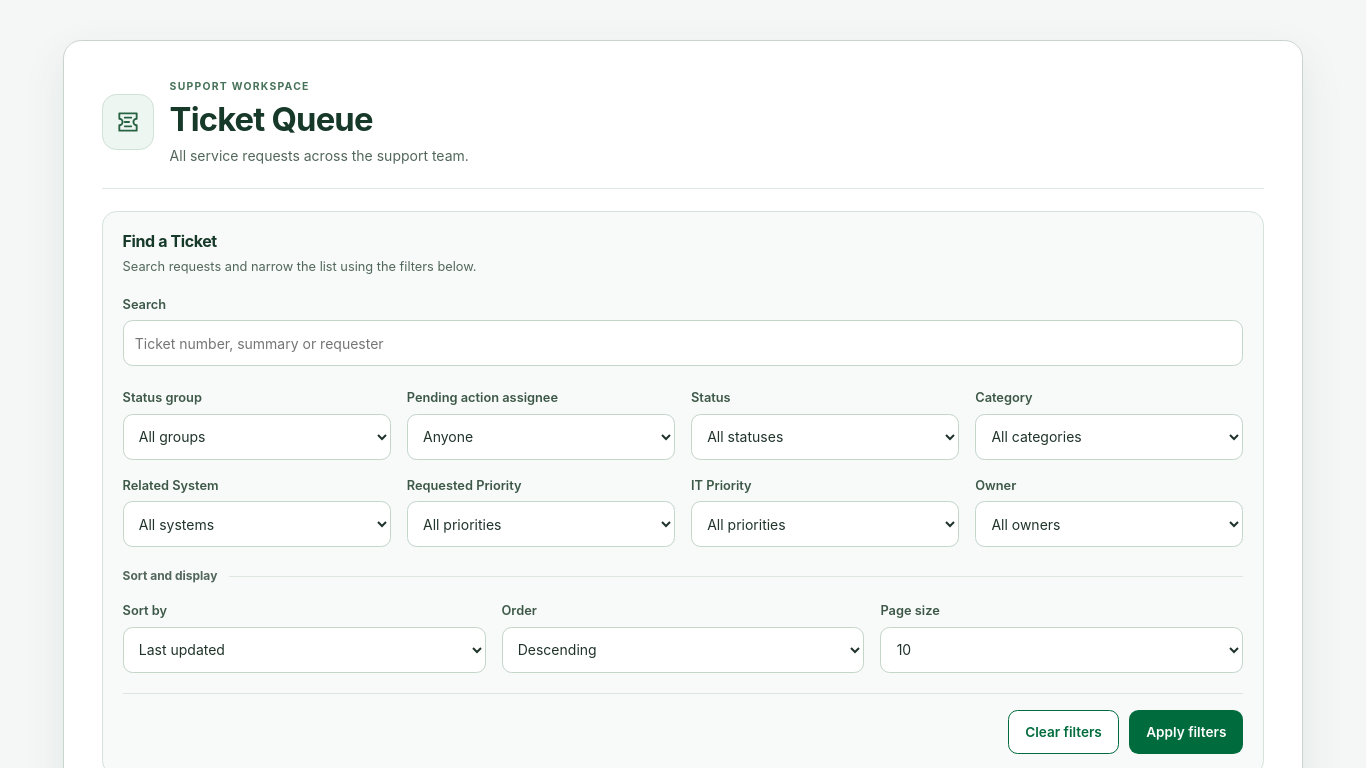
distinguishes empty and filtered no-results, and clears filters
The image size is (1366, 768).
Type "no results" into the field labelled "Search" at (683, 343), box x1=123 y1=320 x2=1243 y2=366
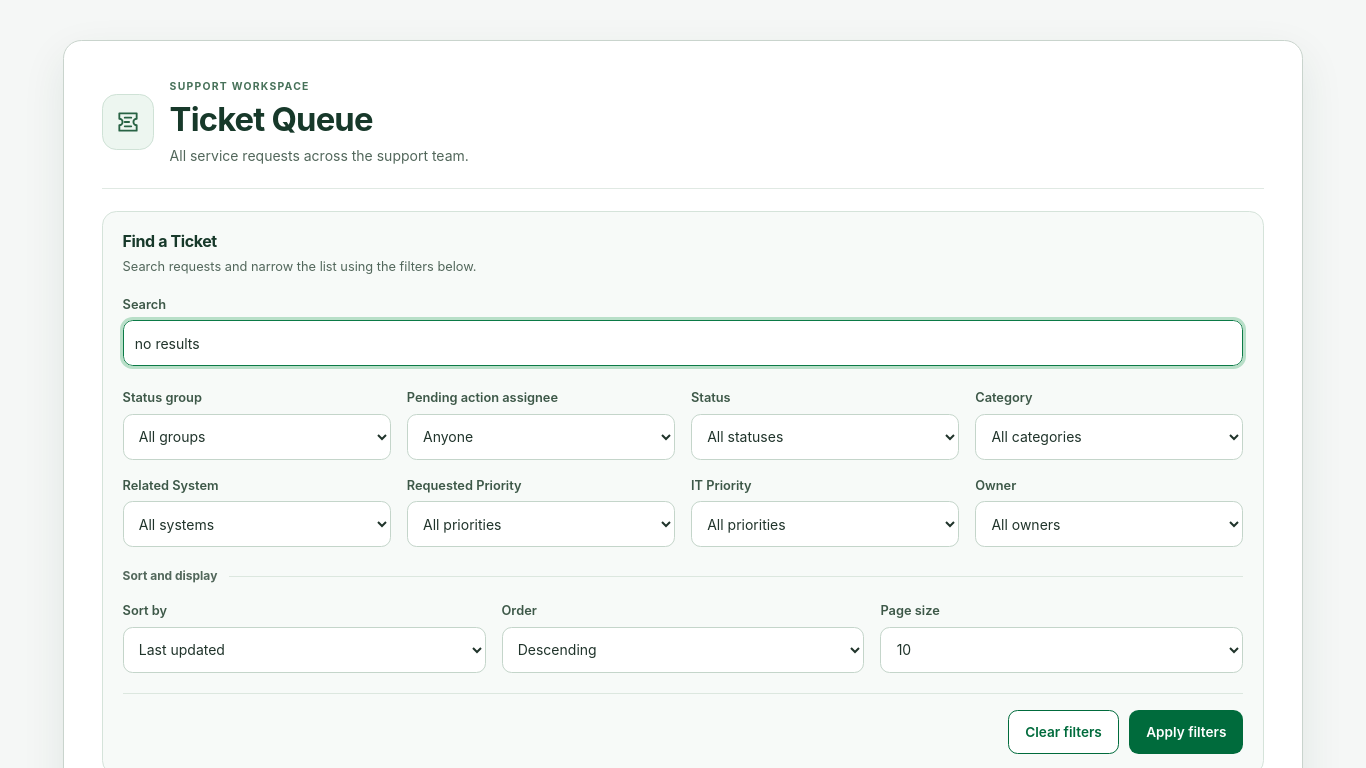
Click the button "Apply filters" at (1186, 732), box x1=1129 y1=710 x2=1243 y2=754
(page scrolled)
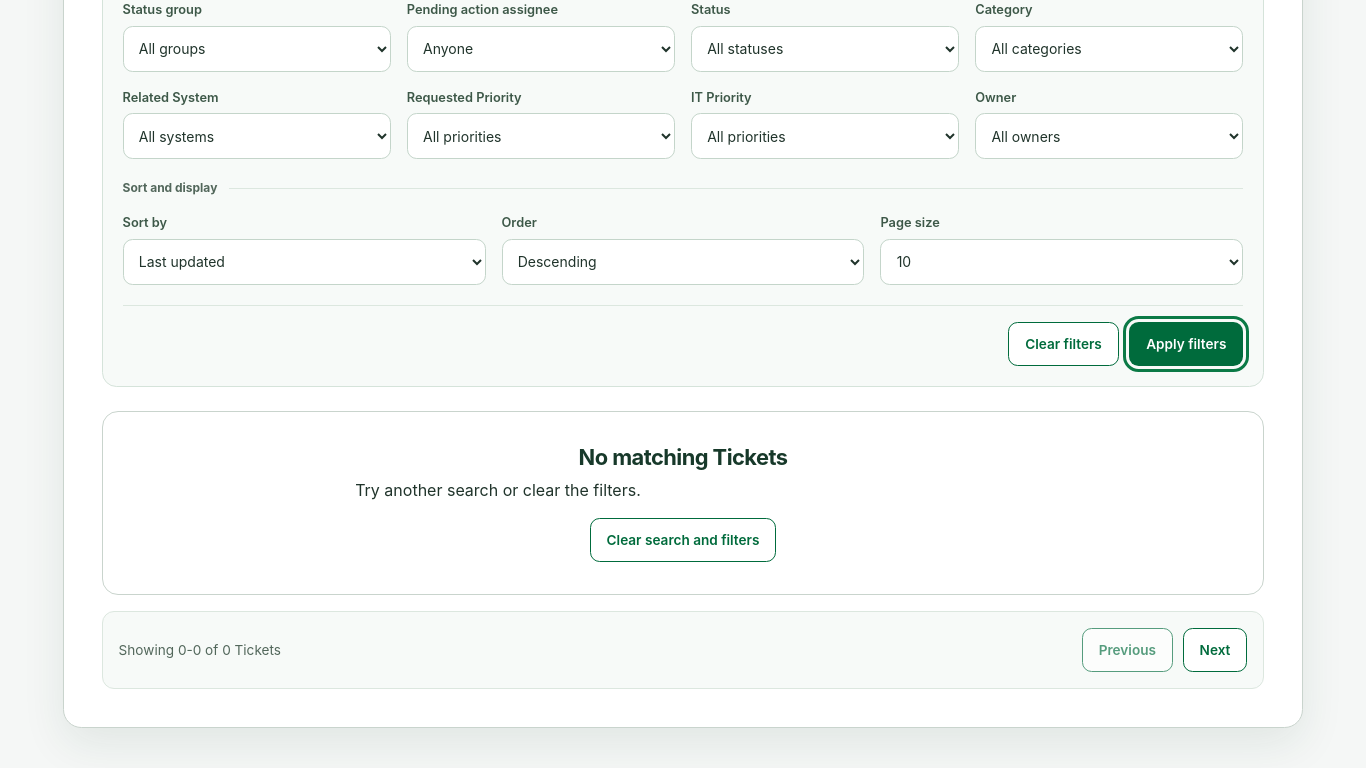
Expected: the heading "No matching Tickets" is shown, x1=579 y1=444 x2=787 y2=470
Click the button "Clear search and filters" at (683, 540), box x1=590 y1=518 x2=776 y2=562
(page scrolled)
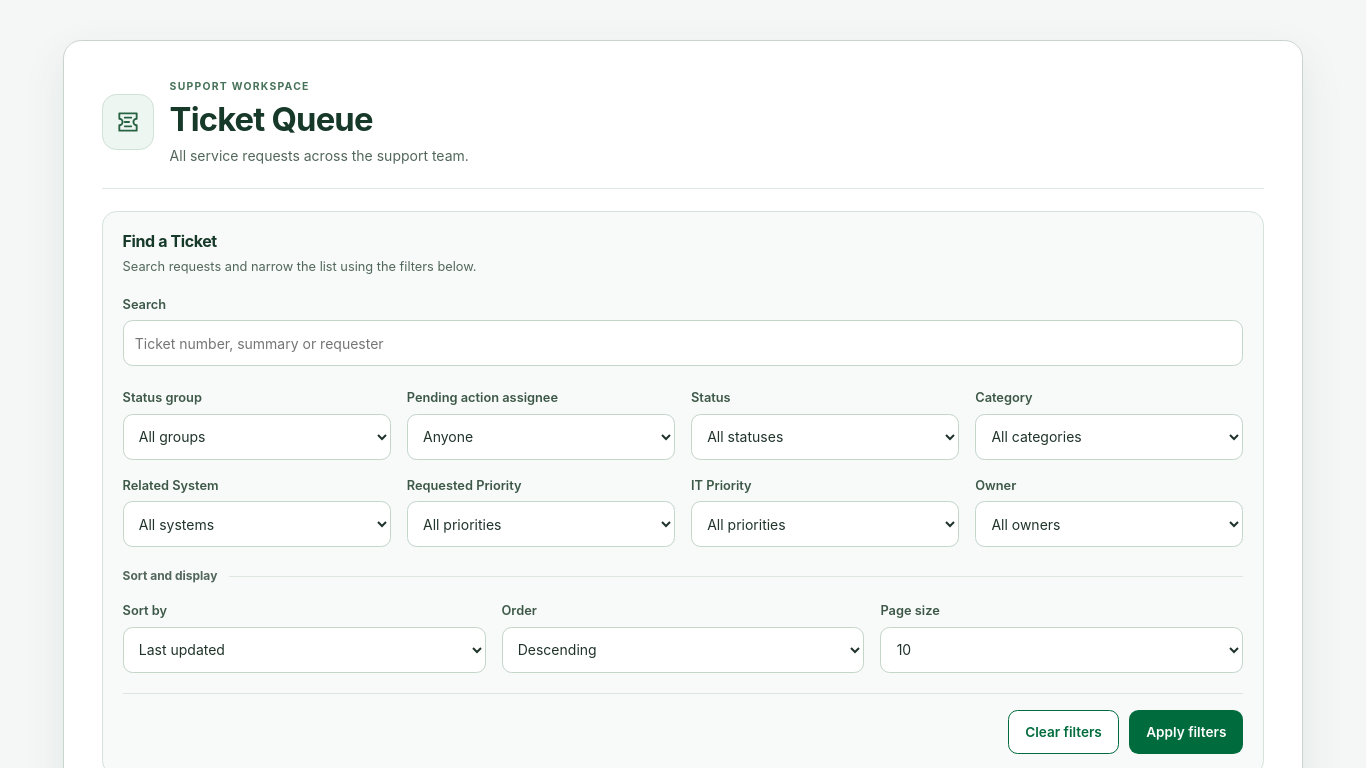
Expected: the field labelled "Search" is empty, x1=123 y1=320 x2=1243 y2=366
